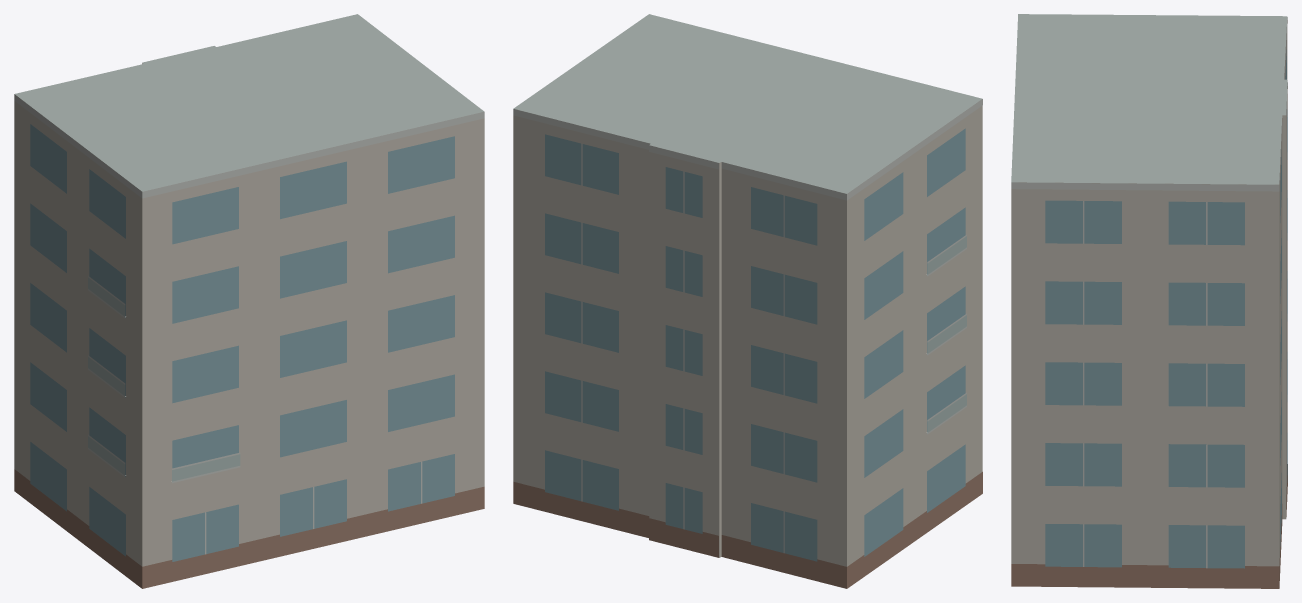
Rendered from survey-upis-32702933.glb.
3 renders of one model, left to right at view 1: azimuth 30°, elevation 25°; view 2: azimuth 150°, elevation 25°; view 3: azimuth 270°, elevation 25°, orthographic. The views are drawn at different scales.
Visible parts, largest first — view 1: survey-upis-32702933.tmp; view 2: survey-upis-32702933.tmp; view 3: survey-upis-32702933.tmp.
Part boxes in pixels (left/top/right/bottom): survey-upis-32702933.tmp: left=14, top=14, right=484, bottom=588; survey-upis-32702933.tmp: left=513, top=14, right=982, bottom=588; survey-upis-32702933.tmp: left=1011, top=14, right=1287, bottom=588.
Size of the model in its own units: 13.16 by 14.5 by 9.
